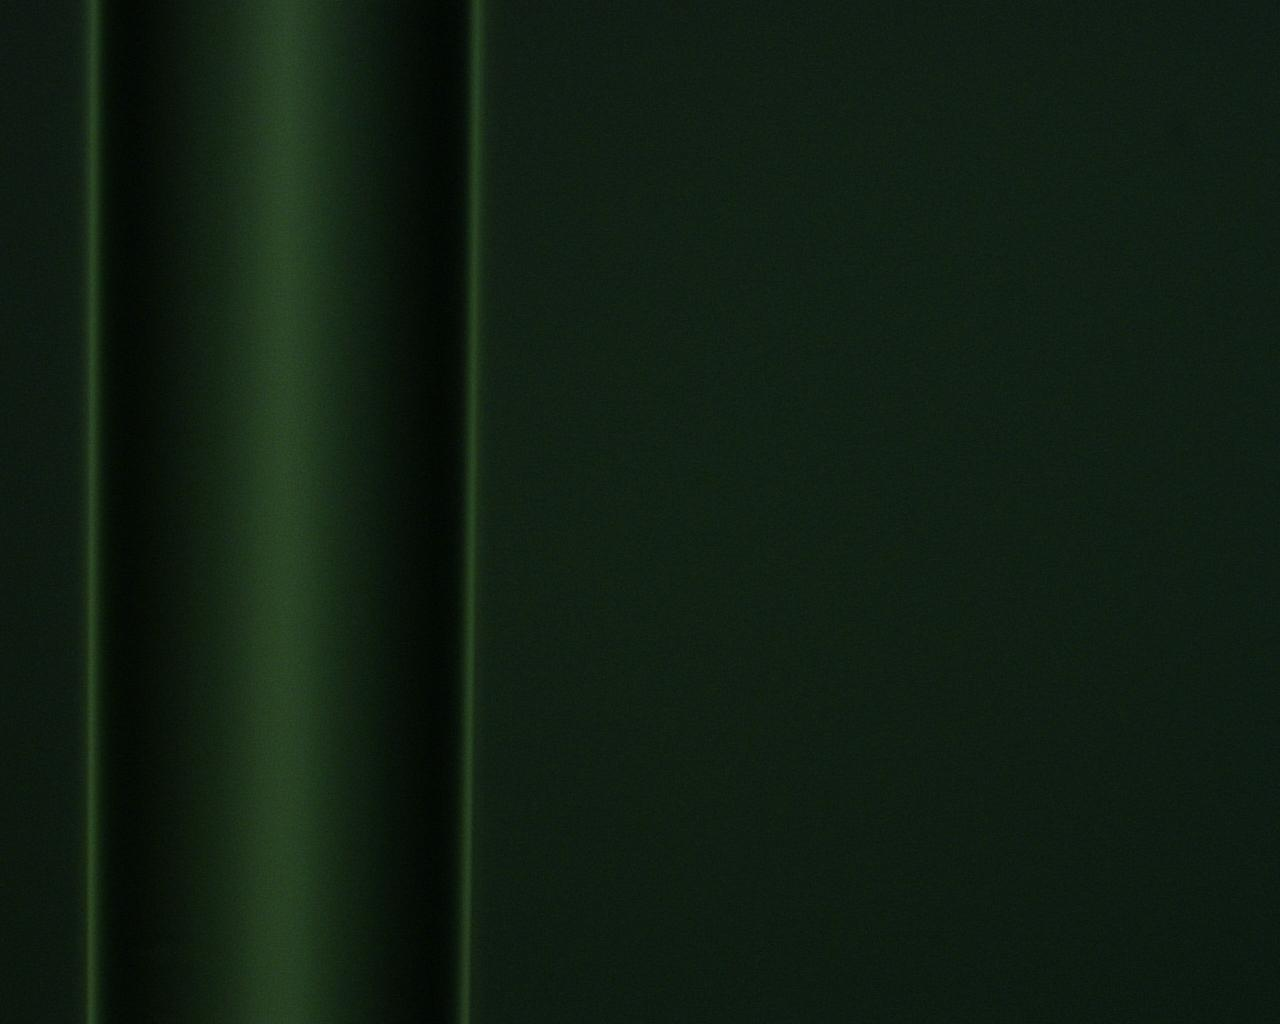fiber: (88, 0, 481, 1024)
